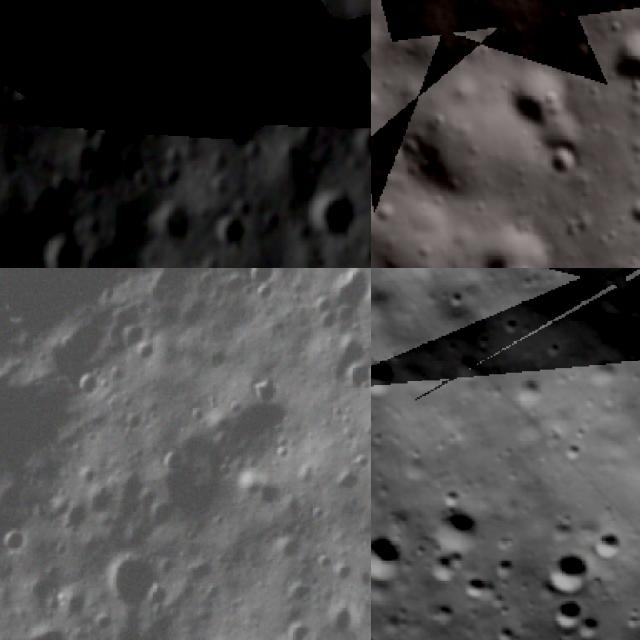crater: (371, 83, 506, 226), (487, 53, 585, 147), (466, 206, 569, 268), (421, 489, 496, 564), (100, 548, 170, 619), (534, 538, 601, 606), (405, 536, 473, 603), (371, 518, 417, 593), (599, 26, 640, 107), (537, 585, 593, 640), (585, 516, 639, 570), (537, 136, 590, 190), (308, 190, 358, 242), (371, 344, 403, 411), (18, 72, 58, 124), (40, 227, 86, 268), (114, 316, 156, 356), (147, 200, 188, 239), (612, 187, 640, 244), (205, 212, 248, 246), (244, 370, 281, 408), (567, 621, 640, 640), (0, 523, 34, 562), (342, 20, 371, 61), (356, 268, 371, 331), (79, 374, 107, 401), (354, 121, 371, 158), (371, 617, 394, 640)
